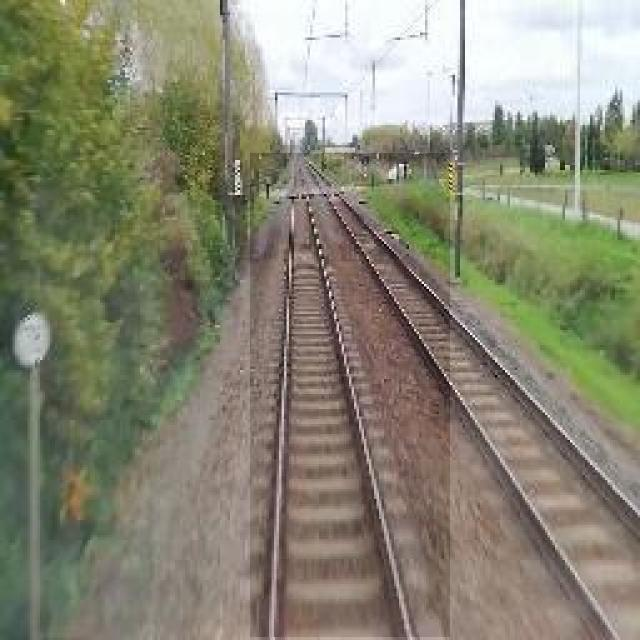rail: (252, 155, 451, 638)
